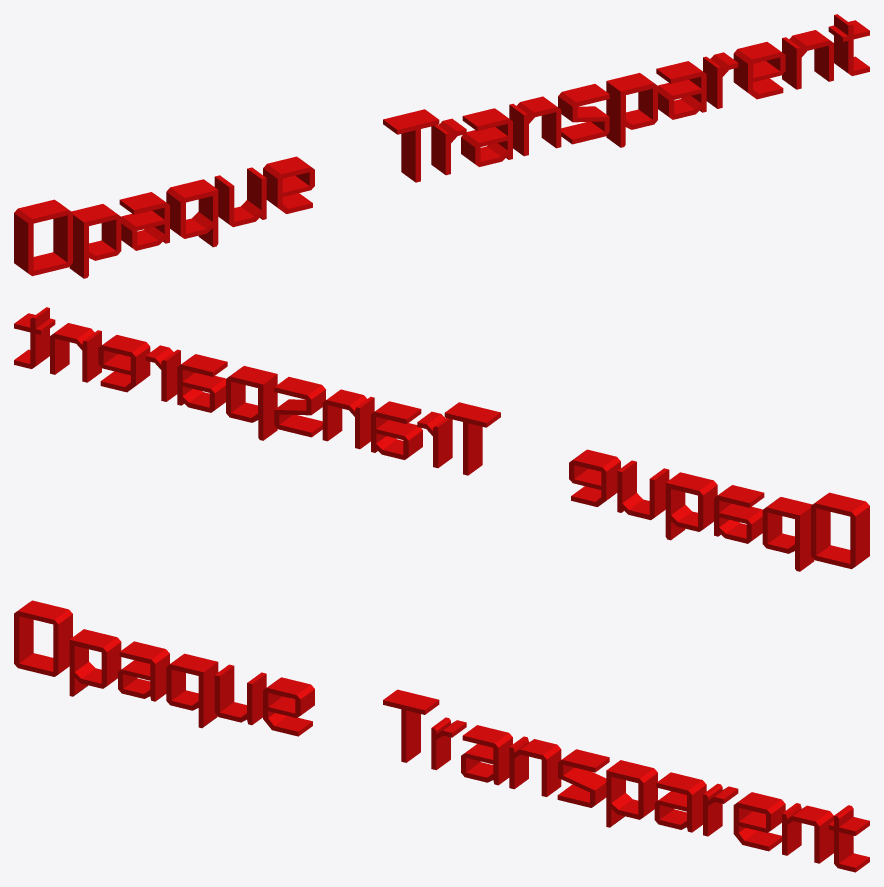
File: HYPOTHESIS_8_BUZZWORDS.fbx
The picture shows the model from 3 angles, top to bottom: view 1: azimuth 30°, elevation 25°; view 2: azimuth 150°, elevation 25°; view 3: azimuth 330°, elevation 25°; orthographic projection.
Parts seen in each view (by area): view 1: Transparent, Opaque; view 2: Transparent, Opaque; view 3: Transparent, Opaque.
Boxes of the visible parts, bbox=[...] form: Transparent: bbox=[383, 14, 869, 182]; Opaque: bbox=[14, 156, 314, 278]; Transparent: bbox=[14, 307, 500, 475]; Opaque: bbox=[569, 449, 869, 571]; Transparent: bbox=[383, 689, 869, 872]; Opaque: bbox=[14, 600, 314, 736].
Size of the model in its own units: 10 by 0.8217 by 0.2973.
